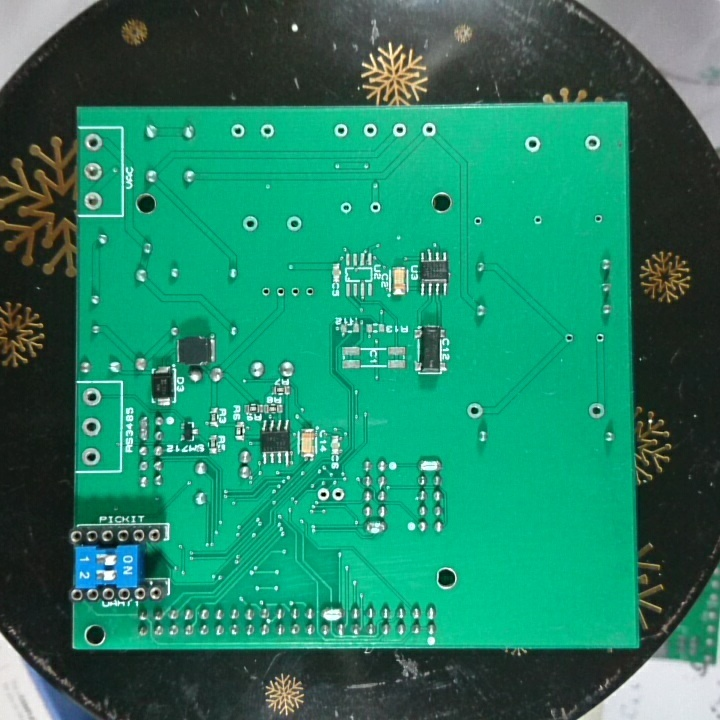F: (80, 384, 105, 408), (79, 415, 104, 439), (82, 131, 108, 154), (82, 160, 105, 184), (82, 189, 105, 212), (79, 445, 103, 467), (239, 213, 262, 235), (585, 400, 607, 423), (522, 134, 544, 154), (582, 132, 602, 154), (284, 215, 305, 235), (465, 400, 484, 422), (419, 120, 439, 140), (258, 120, 277, 140), (332, 121, 351, 141), (361, 120, 379, 140), (228, 123, 249, 140), (391, 120, 407, 140), (591, 329, 608, 347), (272, 282, 288, 300), (530, 212, 546, 229), (367, 199, 383, 216), (300, 284, 317, 300), (314, 485, 331, 501), (562, 330, 577, 348), (331, 484, 345, 503), (338, 200, 354, 216), (259, 283, 272, 301), (288, 284, 302, 300), (591, 210, 602, 228), (471, 214, 484, 229)
P: (361, 518, 391, 538), (319, 603, 348, 622), (414, 456, 442, 474), (137, 413, 151, 443)
